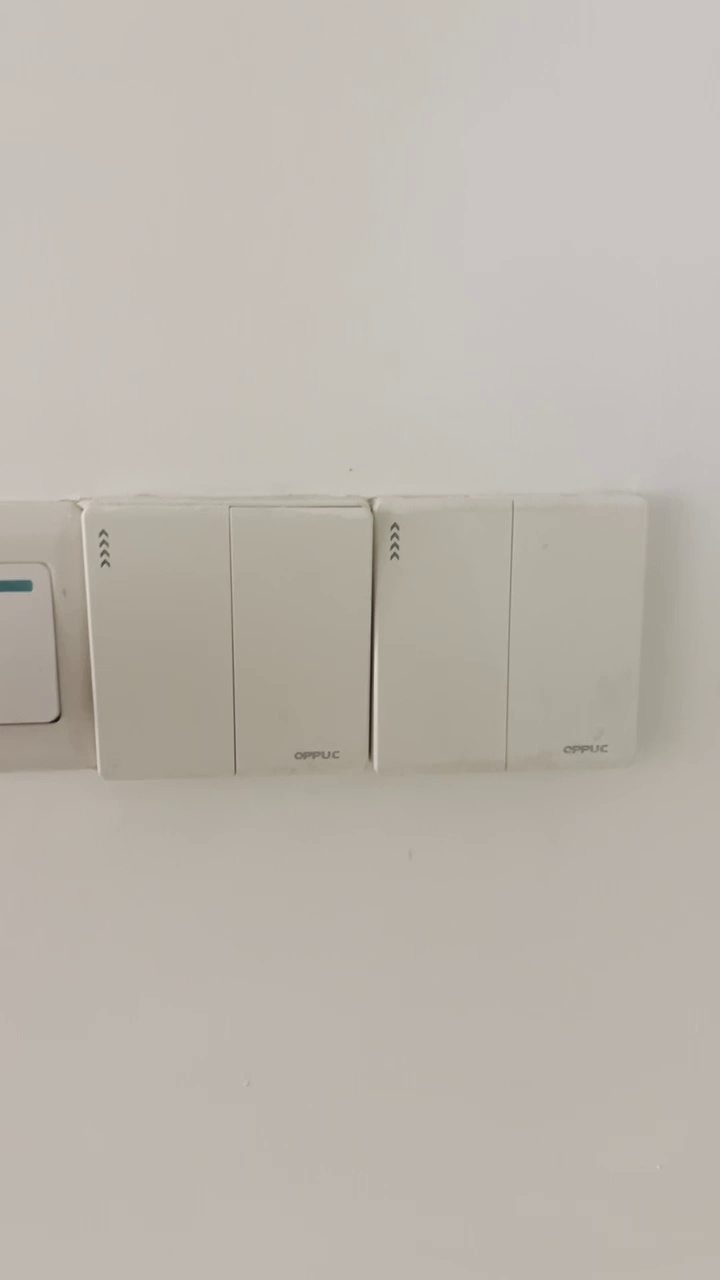button1: (89, 513, 230, 777), (234, 513, 369, 767), (378, 512, 507, 774), (514, 512, 633, 768)
